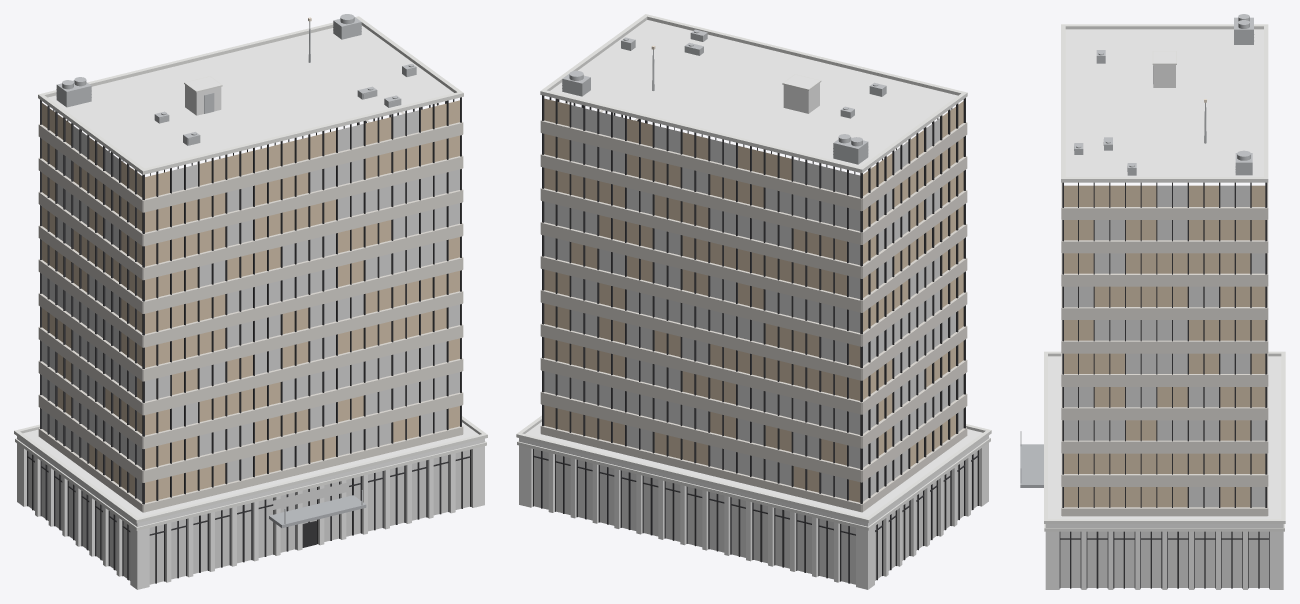
The model's file is tower_slab170.glb.
The picture shows the model from 3 angles, left to right: view 1: azimuth 30°, elevation 25°; view 2: azimuth 150°, elevation 25°; view 3: azimuth 270°, elevation 25°; orthographic projection.
Visible parts, largest first — view 1: tower_slab170_Walls, tower_slab170_WindowsLit, tower_slab170_Glass, tower_slab170_Roof, tower_slab170_Frames, tower_slab170_Walls2, tower_slab170_Trim, tower_slab170_Details, tower_slab170_Accent, tower_slab170_Brand; view 2: tower_slab170_Walls, tower_slab170_WindowsLit, tower_slab170_Glass, tower_slab170_Roof, tower_slab170_Frames, tower_slab170_Walls2, tower_slab170_Trim, tower_slab170_Details; view 3: tower_slab170_Roof, tower_slab170_Walls, tower_slab170_Glass, tower_slab170_WindowsLit, tower_slab170_Frames, tower_slab170_Trim, tower_slab170_Walls2, tower_slab170_Details, tower_slab170_Accent.
Boxes of the visible parts, x1,y1,x2,y2 form: tower_slab170_Walls: (38,103,463,512); tower_slab170_WindowsLit: (28,110,469,584); tower_slab170_Glass: (42,100,459,502); tower_slab170_Roof: (23,25,478,517); tower_slab170_Frames: (27,97,471,583); tower_slab170_Walls2: (17,85,484,589); tower_slab170_Trim: (14,16,487,530); tower_slab170_Details: (56,14,416,524); tower_slab170_Accent: (269,495,366,528); tower_slab170_Brand: (273,482,348,509); tower_slab170_Walls: (540,101,967,512); tower_slab170_WindowsLit: (534,105,977,584); tower_slab170_Glass: (544,98,963,502); tower_slab170_Roof: (525,20,982,517); tower_slab170_Frames: (533,95,978,583); tower_slab170_Walls2: (519,83,988,589); tower_slab170_Trim: (516,14,991,530); tower_slab170_Details: (562,29,886,164); tower_slab170_Roof: (1048,29,1281,519); tower_slab170_Walls: (1061,182,1268,516); tower_slab170_Glass: (1064,185,1265,507); tower_slab170_WindowsLit: (1060,185,1268,587); tower_slab170_Frames: (1059,182,1269,588); tower_slab170_Trim: (1044,24,1285,531); tower_slab170_Walls2: (1045,65,1283,589); tower_slab170_Details: (1020,14,1254,482); tower_slab170_Accent: (1020,444,1043,487).
Size of the model in its own units: 141 by 173 by 93.7.
